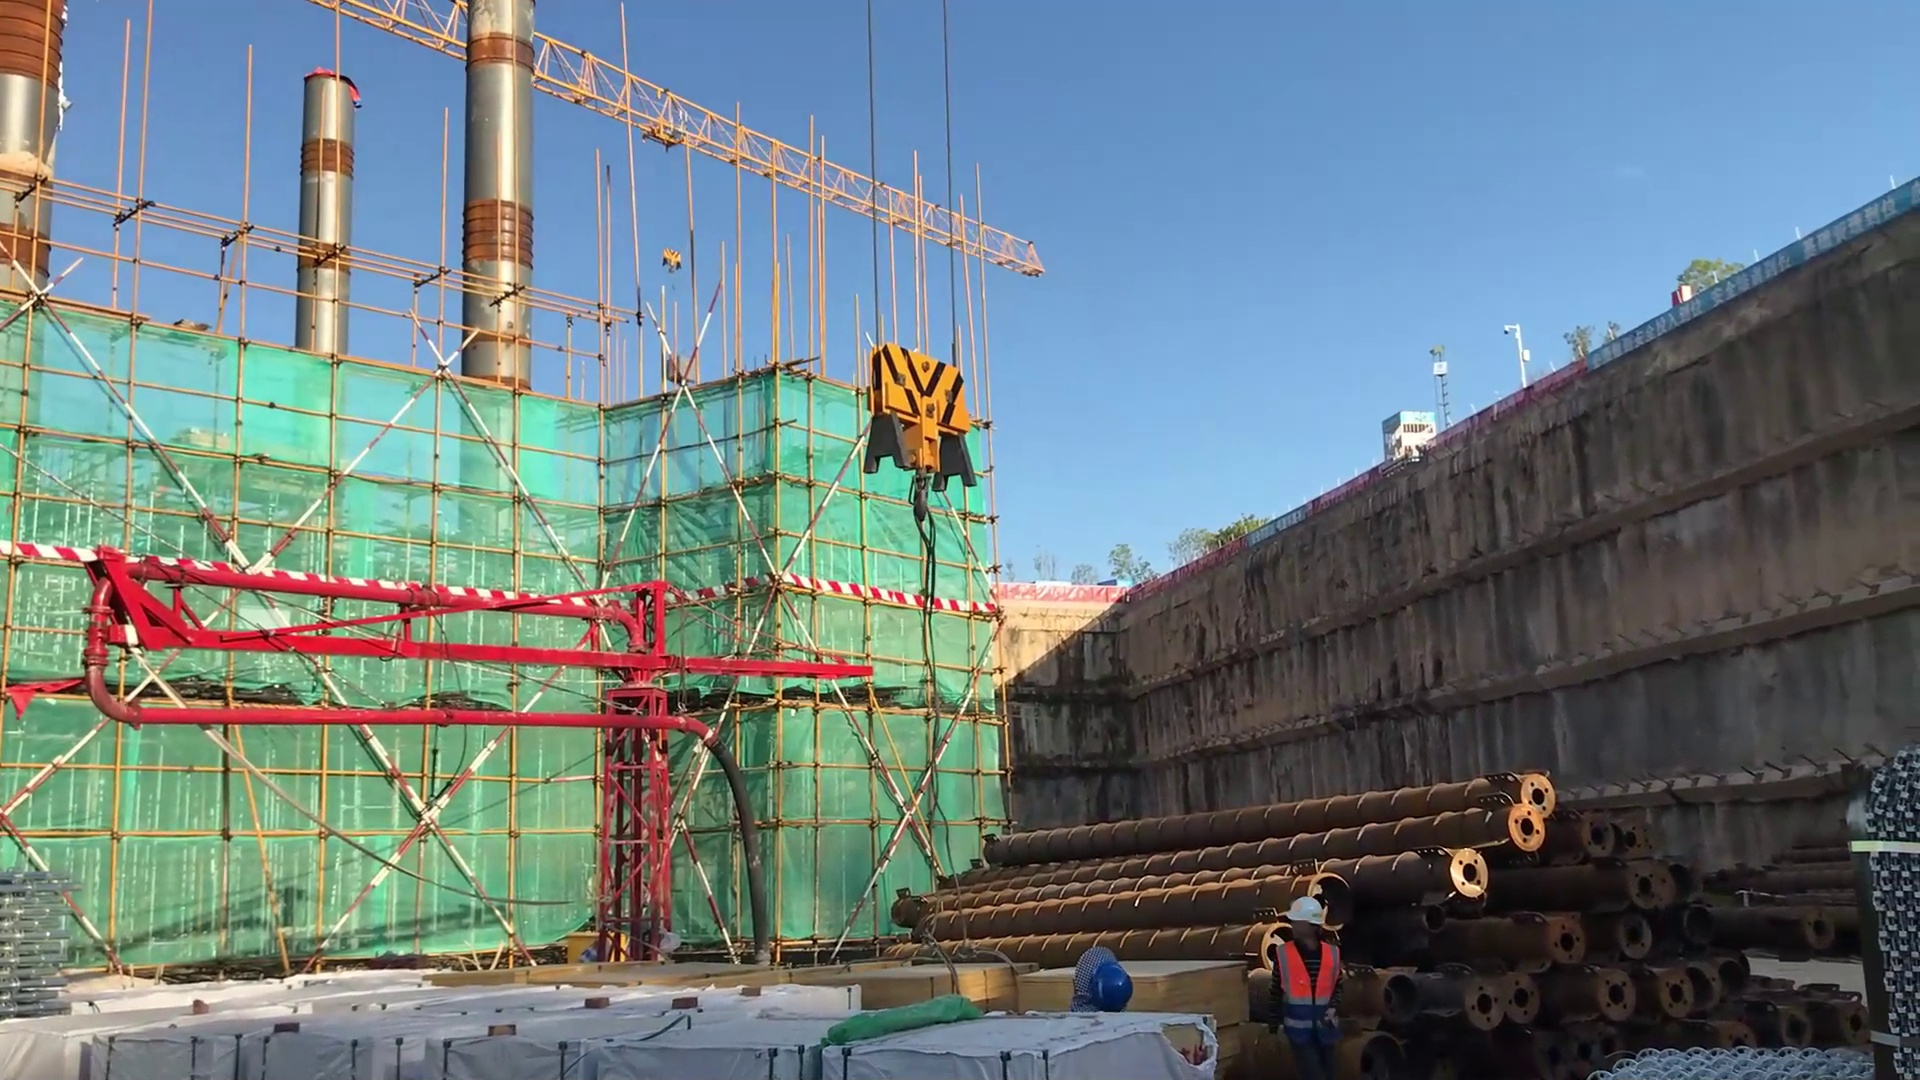board: (1015, 956, 1256, 1036), (785, 957, 1040, 1019)
ebox: (556, 926, 631, 969)
helmet: (1086, 944, 1140, 1023), (1288, 890, 1331, 938)
hook: (856, 332, 1009, 562), (651, 235, 691, 288)
person: (1254, 894, 1371, 1076)
scaffold: (1833, 745, 1919, 1080), (1, 863, 122, 1011)
slogan: (1577, 160, 1920, 371), (1243, 491, 1336, 559)
vest: (1269, 934, 1351, 1032)
